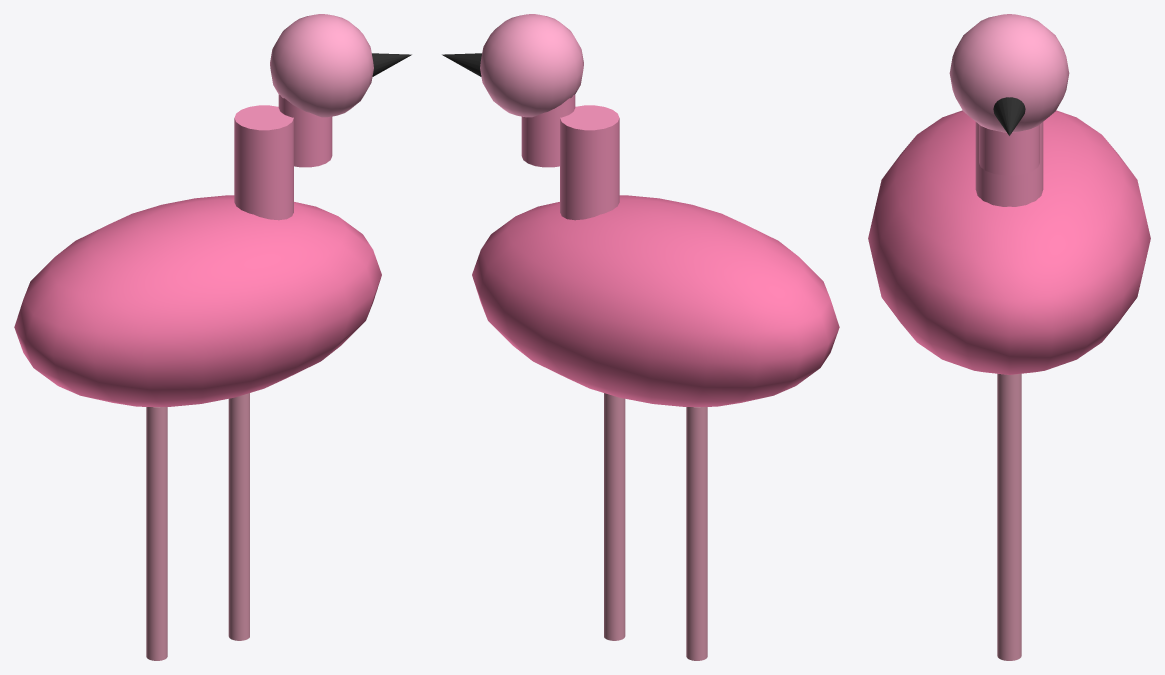
Rendered from flamingo.glb.
The picture shows the model from 3 angles, left to right: view 1: azimuth 30°, elevation 25°; view 2: azimuth 150°, elevation 25°; view 3: azimuth 270°, elevation 25°; orthographic projection. The views are drawn at different scales.
Parts seen in each view (by area): view 1: flamingo; view 2: flamingo; view 3: flamingo.
Part boxes in pixels (box(x1,y1,x2,y2)): flamingo: box(14, 14, 411, 660); flamingo: box(442, 14, 839, 660); flamingo: box(868, 14, 1150, 660).
Bounding box in the file's own units: 0.752 × 1.11 × 0.416.
